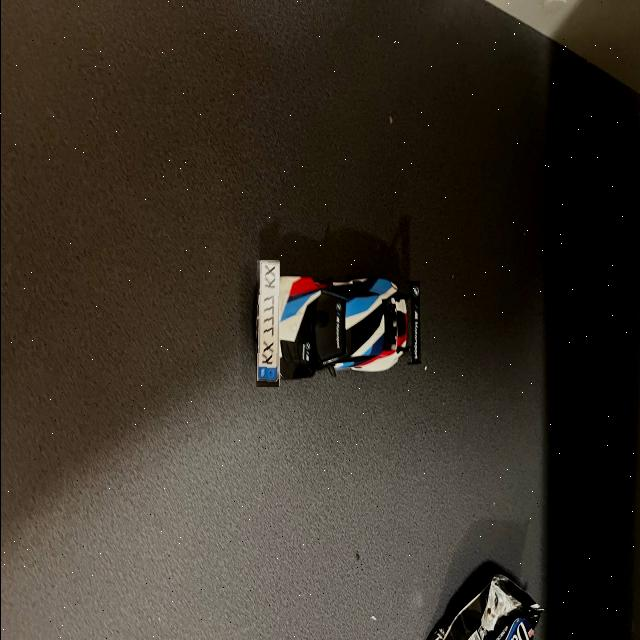KX 7777 KX: (256, 260, 278, 387)
